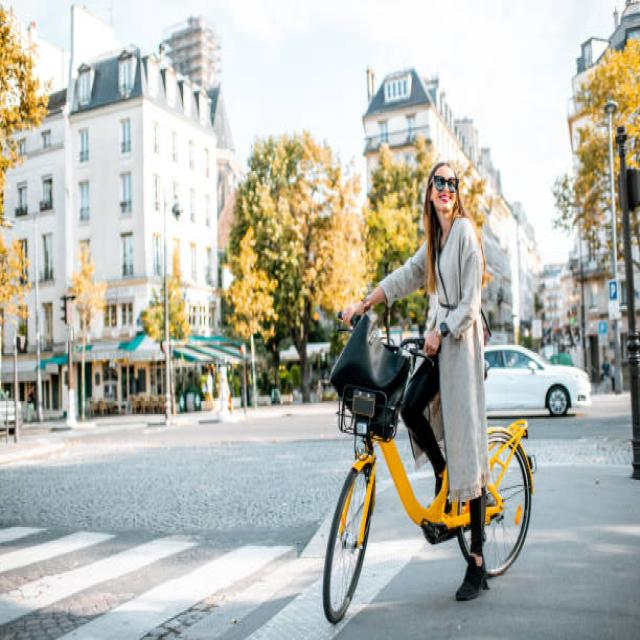bicycle: (324, 161, 532, 622)
